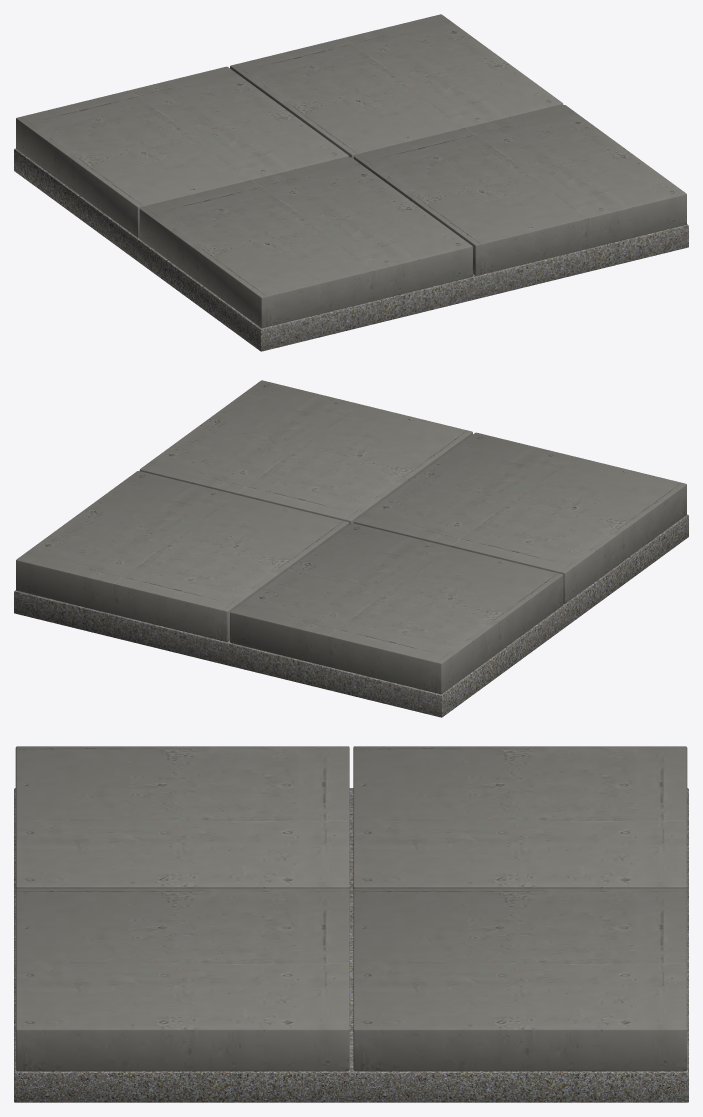
Rendered from PAV-CAL-001.glb.
3 views of the same model, one above another, from view 1: azimuth 30°, elevation 25°; view 2: azimuth 150°, elevation 25°; view 3: azimuth 270°, elevation 25° (orthographic). The views are drawn at different scales.
Parts seen in each view (by area): view 1: PAV-CAL-001_placa0, PAV-CAL-001_placa1, PAV-CAL-001_placa2, PAV-CAL-001_placa3, PAV-CAL-001_base; view 2: PAV-CAL-001_placa2, PAV-CAL-001_placa3, PAV-CAL-001_placa0, PAV-CAL-001_placa1, PAV-CAL-001_base; view 3: PAV-CAL-001_placa1, PAV-CAL-001_placa3, PAV-CAL-001_placa0, PAV-CAL-001_placa2, PAV-CAL-001_base.
Part boxes in pixels (x1,y1,x2,y2): PAV-CAL-001_placa0: [139, 157, 472, 328]; PAV-CAL-001_placa1: [353, 105, 686, 275]; PAV-CAL-001_placa2: [16, 66, 348, 237]; PAV-CAL-001_placa3: [230, 14, 563, 158]; PAV-CAL-001_base: [14, 148, 688, 351]; PAV-CAL-001_placa2: [230, 523, 563, 694]; PAV-CAL-001_placa3: [16, 471, 349, 641]; PAV-CAL-001_placa0: [354, 432, 686, 603]; PAV-CAL-001_placa1: [139, 380, 472, 524]; PAV-CAL-001_base: [14, 514, 688, 717]; PAV-CAL-001_placa1: [15, 888, 349, 1071]; PAV-CAL-001_placa3: [353, 888, 687, 1071]; PAV-CAL-001_placa0: [15, 746, 349, 889]; PAV-CAL-001_placa2: [353, 746, 687, 889]; PAV-CAL-001_base: [14, 788, 688, 1102].
Size of the model in its own units: 1 by 0.12 by 1.
2 materials, 2 textured.
